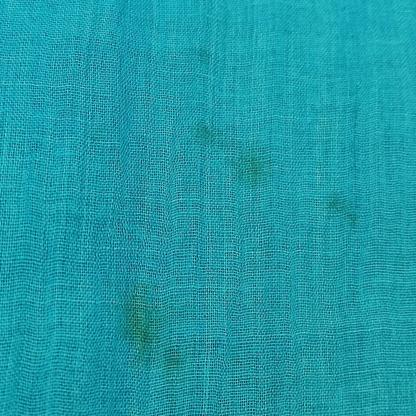spot: (196, 111, 270, 186), (126, 288, 184, 366), (316, 192, 359, 223), (191, 42, 224, 70)
